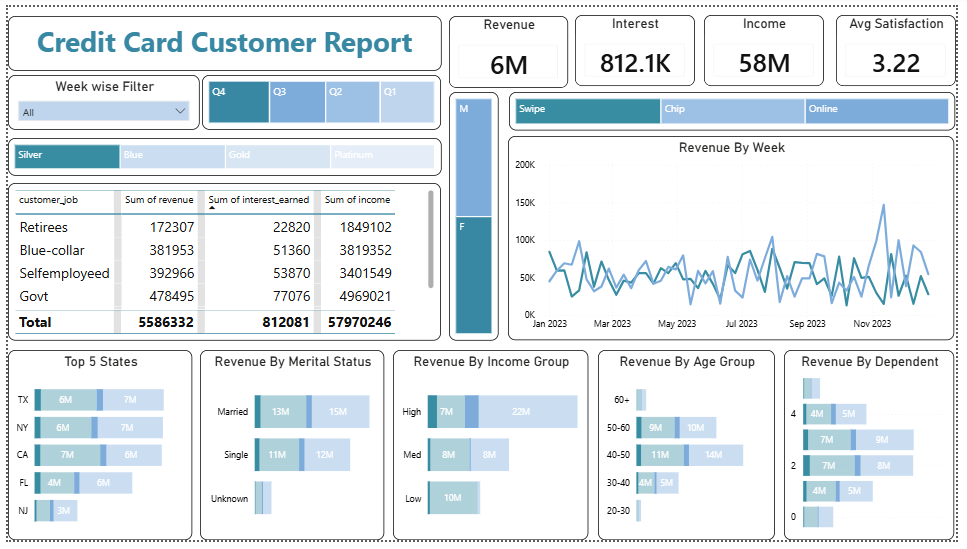

The dashboard page shown, as its layout file describes it:
{"tool":"powerbi","page":{"name":"CC_Customers","canvas":[1280,720],"ordinal":2},"visuals":[{"type":"textbox","box":[0,11.6,585.5,73.9],"z":0},{"type":"tableEx","fields":{"Values":["public cc_customers.customer_job","Sum(public cc_details.revenue)","Sum(public cc_details.interest_earned)","Sum(public cc_customers.income)"]},"box":[0,237.3,585.1,213.4],"z":1000},{"type":"cardVisual","title":"Revenue","fields":{"Data":["Sum(public cc_details.revenue)"]},"box":[595.7,11.6,160.9,97.1],"z":2000},{"type":"cardVisual","title":"Interest","fields":{"Data":["Sum(public cc_details.interest_earned)"]},"box":[766.8,11.3,161.6,96.4],"z":3000},{"type":"cardVisual","title":"Income","fields":{"Data":["Sum(public cc_customers.income)"]},"box":[941.1,11.3,161.6,96.4],"z":4000},{"type":"cardVisual","title":"Avg Satisfaction","fields":{"Data":["Avg(public cc_customers.cust_satisfaction_score)"]},"box":[1118.3,11.3,161.6,96.4],"z":5000},{"type":"slicer","title":"Week wise Filter","fields":{"Values":["public cc_details.week_start_date"]},"box":[0,91.3,259.4,73.9],"z":6000},{"type":"treemap","fields":{"Group":["public cc_details.qtr"],"Values":["Avg(public cc_details.client_num)"]},"box":[262.3,91.3,323.2,73.9],"z":7000},{"type":"treemap","fields":{"Values":["Avg(public cc_details.client_num)"],"Group":["public cc_customers.gender"]},"box":[595.5,114.9,67.2,335.8],"z":8000},{"type":"treemap","fields":{"Values":["Avg(public cc_details.client_num)"],"Group":["public cc_details.card_category"]},"box":[0,176.8,585.5,50.7],"z":9000},{"type":"treemap","fields":{"Values":["Avg(public cc_details.client_num)"],"Group":["public cc_details.use_chip"]},"box":[677.6,114.9,603,52.2],"z":10000},{"type":"barChart","title":"Revenue By Income Group","fields":{"Y":["Sum(public cc_details.revenue)"],"Category":["public cc_customers.income_group"],"Series":["public cc_customers.gender"]},"box":[520.3,463.8,263.8,256.5],"z":11000},{"type":"lineChart","title":"Revenue By Week","fields":{"Y":["Sum(public cc_details.revenue)"],"Series":["public cc_customers.gender"],"Category":["public cc_details.week_start_date.Variation.Date Hierarchy.Year","public cc_details.week_start_date.Variation.Date Hierarchy.Month","public cc_details.week_start_date.Variation.Date Hierarchy.Day"]},"box":[676.1,174.6,603,276.1],"z":12000},{"type":"barChart","title":"Revenue By Age Group","fields":{"Y":["Sum(public cc_details.revenue)"],"Category":["public cc_customers.age_group"],"Series":["public cc_customers.gender"]},"box":[797.1,463.8,239.1,256.5],"z":13000},{"type":"barChart","title":"Top 5 States ","fields":{"Y":["Sum(public cc_details.revenue)"],"Category":["public cc_customers.state_cd"],"Series":["public cc_customers.gender"]},"box":[0,463.8,249.3,256.5],"z":14000},{"type":"barChart","title":"Revenue By Dependent","fields":{"Y":["Sum(public cc_details.revenue)"],"Category":["public cc_customers.dependent_count"],"Series":["public cc_customers.gender"]},"box":[1049.3,463.8,230.4,256.5],"z":15000},{"type":"barChart","title":"Revenue By Merital Status ","fields":{"Y":["Sum(public cc_details.revenue)"],"Category":["public cc_customers.marital_status"],"Series":["public cc_customers.gender"]},"box":[259.4,463.8,249.3,256.5],"z":16000}]}

Visuals, with their boxes in screenshot pixels (x1, y1, x2, y2), scaled from the page's 1280x720 canvas onto the 967x549 screenshot:
textbox: box(0, 9, 442, 65)
tableEx - public cc_customers.customer_job x Sum(public cc_details.revenue): box(0, 181, 442, 344)
"Revenue" cardVisual: box(450, 9, 572, 83)
"Interest" cardVisual: box(579, 9, 701, 82)
"Income" cardVisual: box(711, 9, 833, 82)
"Avg Satisfaction" cardVisual: box(845, 9, 966, 82)
"Week wise Filter" slicer: box(0, 70, 196, 126)
treemap - public cc_details.qtr x Avg(public cc_details.client_num): box(198, 70, 442, 126)
treemap - Avg(public cc_details.client_num) x public cc_customers.gender: box(450, 88, 501, 344)
treemap - Avg(public cc_details.client_num) x public cc_details.card_category: box(0, 135, 442, 173)
treemap - Avg(public cc_details.client_num) x public cc_details.use_chip: box(512, 88, 966, 127)
"Revenue By Income Group" barChart: box(393, 354, 592, 548)
"Revenue By Week" lineChart: box(511, 133, 966, 344)
"Revenue By Age Group" barChart: box(602, 354, 783, 548)
"Top 5 States " barChart: box(0, 354, 188, 548)
"Revenue By Dependent" barChart: box(793, 354, 966, 548)
"Revenue By Merital Status " barChart: box(196, 354, 384, 548)
